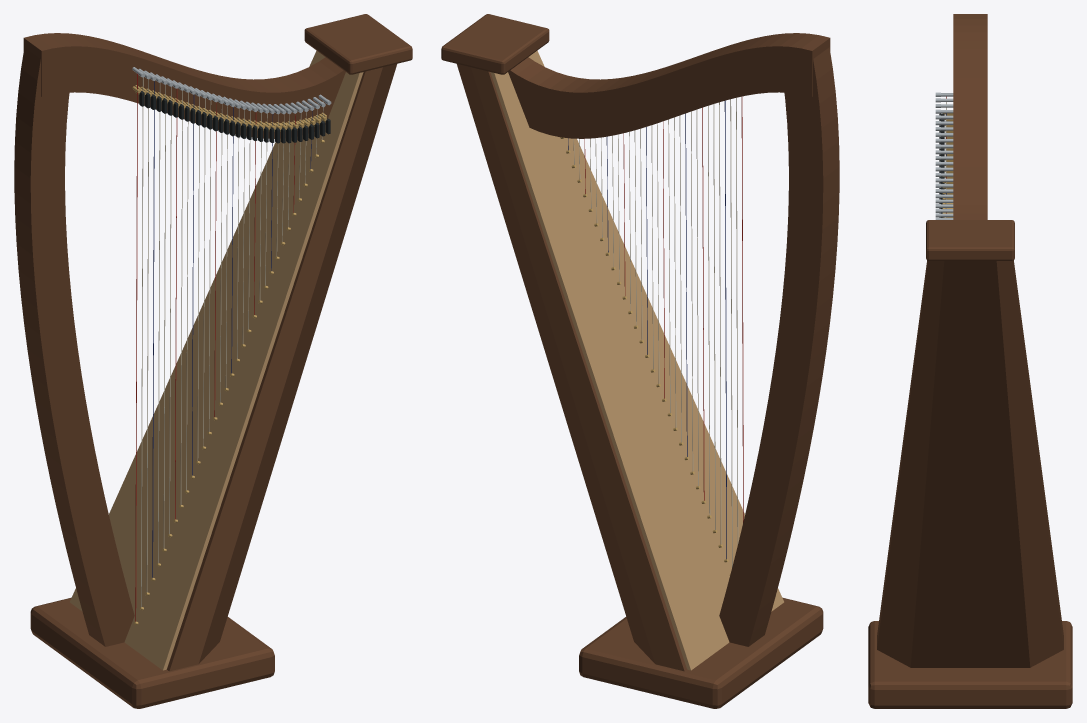
3 renders of one model, left to right at view 1: azimuth 30°, elevation 25°; view 2: azimuth 150°, elevation 25°; view 3: azimuth 270°, elevation 25°, orthographic. The views are drawn at different scales.
Visible parts, largest first — view 1: Closed pale tapered soundboard, Bowed solid front pillar, Closed tapered stave soundbox exterior, Curved solid harp neck, Low attached harp foot, Soundbox top joining cap, Original static string 01, Original static string 02, Original static string 04, Original static string 03, Original static string 05; view 2: Closed pale tapered soundboard, Bowed solid front pillar, Closed tapered stave soundbox exterior, Curved solid harp neck, Low attached harp foot, Soundbox top joining cap, Original static string 03, Original static string 05; view 3: Closed tapered stave soundbox exterior, Low attached harp foot, Curved solid harp neck, Soundbox top joining cap.
Boxes of the visible parts, x1,y1,x2,y2 form: Closed pale tapered soundboard: (70, 50, 363, 670); Bowed solid front pillar: (14, 47, 134, 646); Closed tapered stave soundbox exterior: (167, 64, 396, 671); Curved solid harp neck: (23, 33, 345, 138); Low attached harp foot: (30, 597, 274, 708); Soundbox top joining cap: (304, 14, 412, 74); Original static string 01: (135, 73, 137, 621); Original static string 02: (141, 77, 143, 606); Original static string 04: (152, 81, 154, 577); Original static string 03: (146, 79, 148, 592); Original static string 05: (158, 83, 160, 563); Closed pale tapered soundboard: (490, 50, 783, 670); Bowed solid front pillar: (719, 47, 839, 646); Closed tapered stave soundbox exterior: (457, 64, 686, 671); Curved solid harp neck: (508, 33, 830, 138); Low attached harp foot: (579, 597, 823, 708); Soundbox top joining cap: (441, 14, 549, 74); Original static string 03: (730, 99, 732, 567); Original static string 05: (719, 102, 721, 544); Closed tapered stave soundbox exterior: (877, 260, 1063, 667); Low attached harp foot: (868, 621, 1072, 708); Curved solid harp neck: (953, 14, 987, 219); Soundbox top joining cap: (926, 220, 1014, 260).
Size of the model in its own units: 0.7506 by 1.25 by 0.38.
